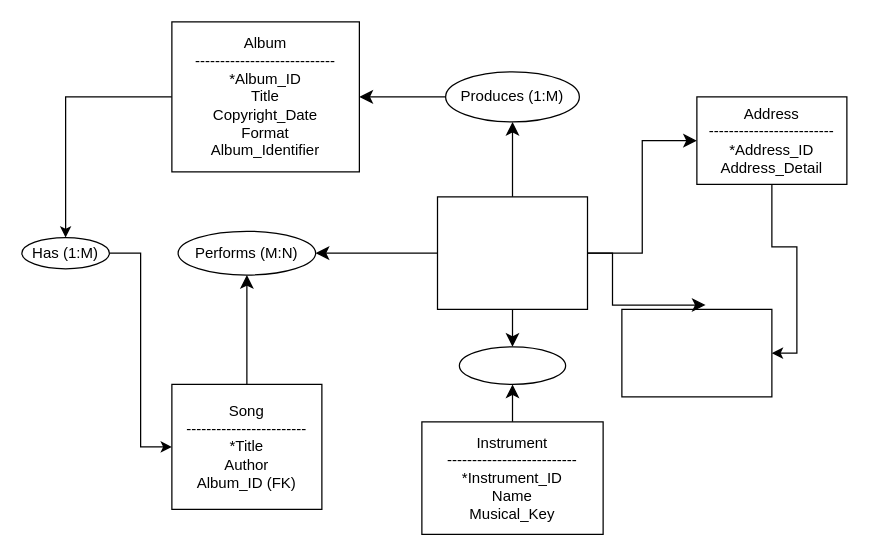
Some shapes in this 869 by 556 pixel diagram are drawn without their labels. The centre of each missing label's shape, as x and y in pixels:
Musician --------------------------- *SSN Name Address_ID (FK): the point at 512,252
Phone --------------------------- *Phone_Number Address_ID (FK): the point at 696,352
Plays (M:N): the point at 512,365
